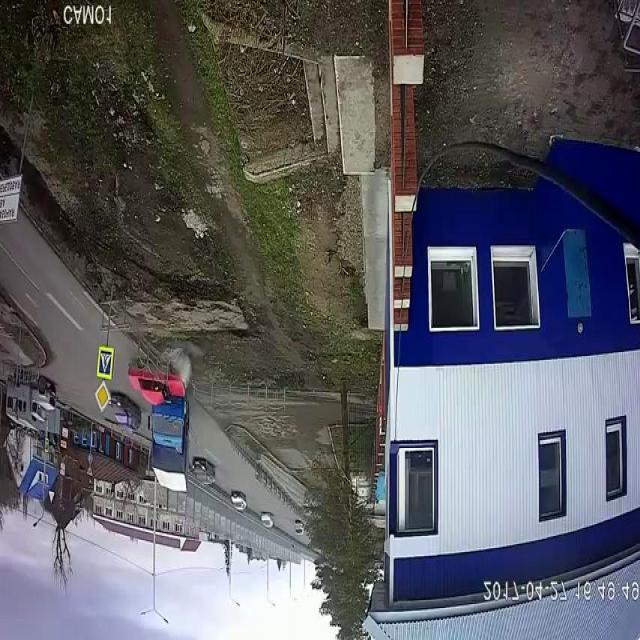severe: (128, 354, 193, 499)
